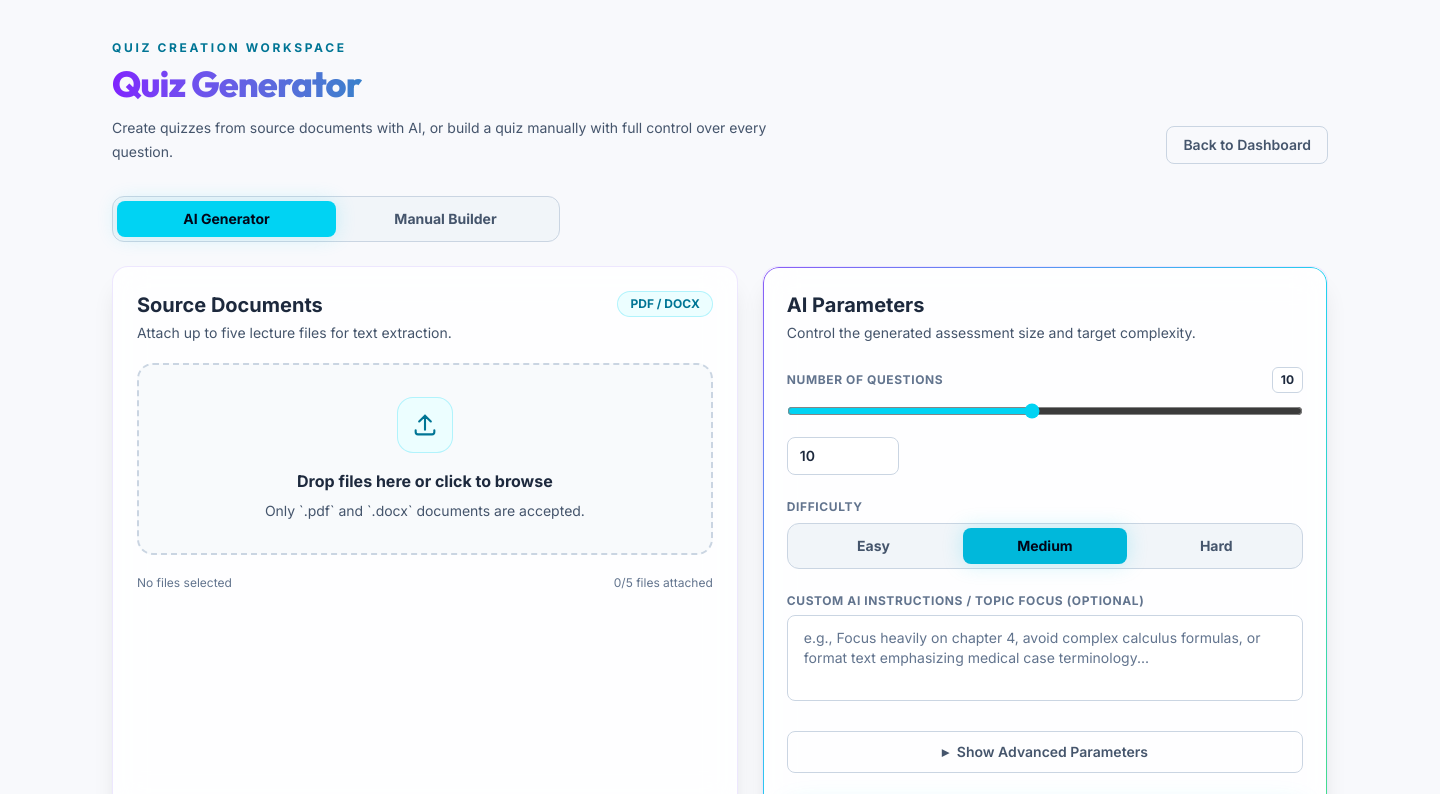
Test: QuizGenerator AI workflow › supports the manual builder path without requiring AI upload
What coordinates should you click on to do the following:
click the button "Manual Builder"
I would click on:
 (446, 219)
Its box is [336,201,555,237].
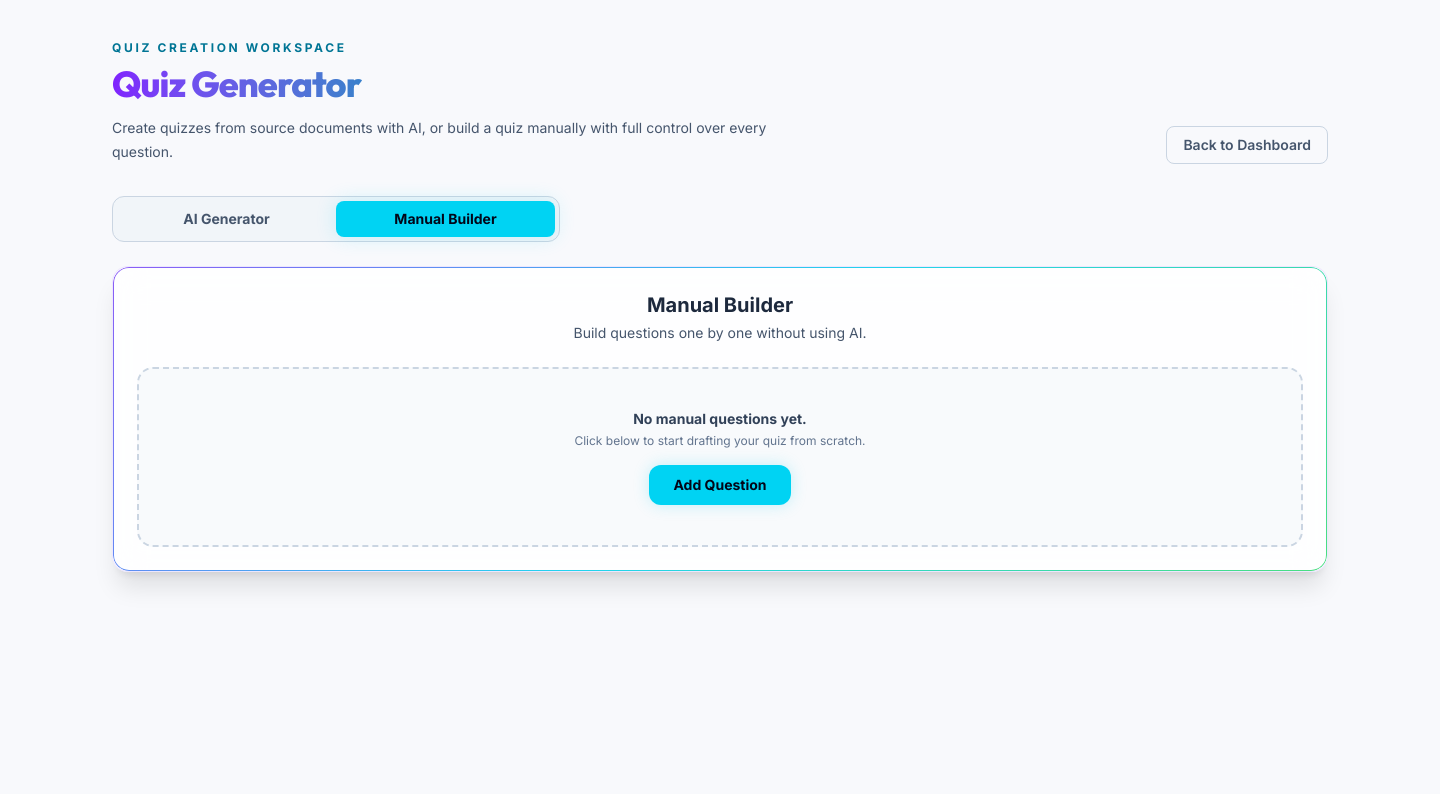
What coordinates should you click on to do the following:
click the button "Add Question"
I would click on:
 (720, 485)
Its box is [650,465,791,505].
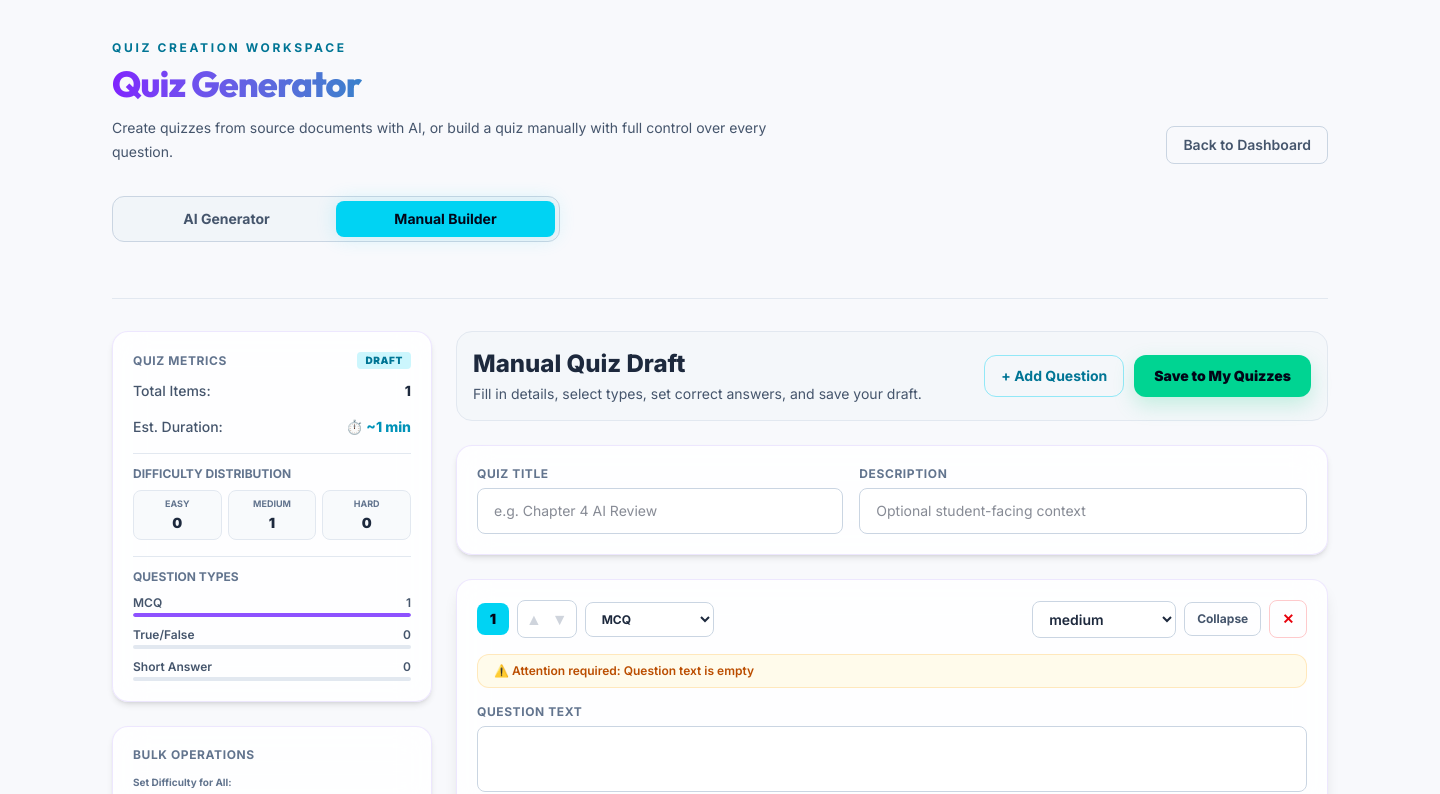
Now the heading "Manual Quiz Draft" is shown, box [473,349,686,378]
Now the field labelled "Quiz Title" is shown, box [477,488,843,534]
Now the dropdown named "question 1 type" shows "MCQ", box [585,602,714,636]
